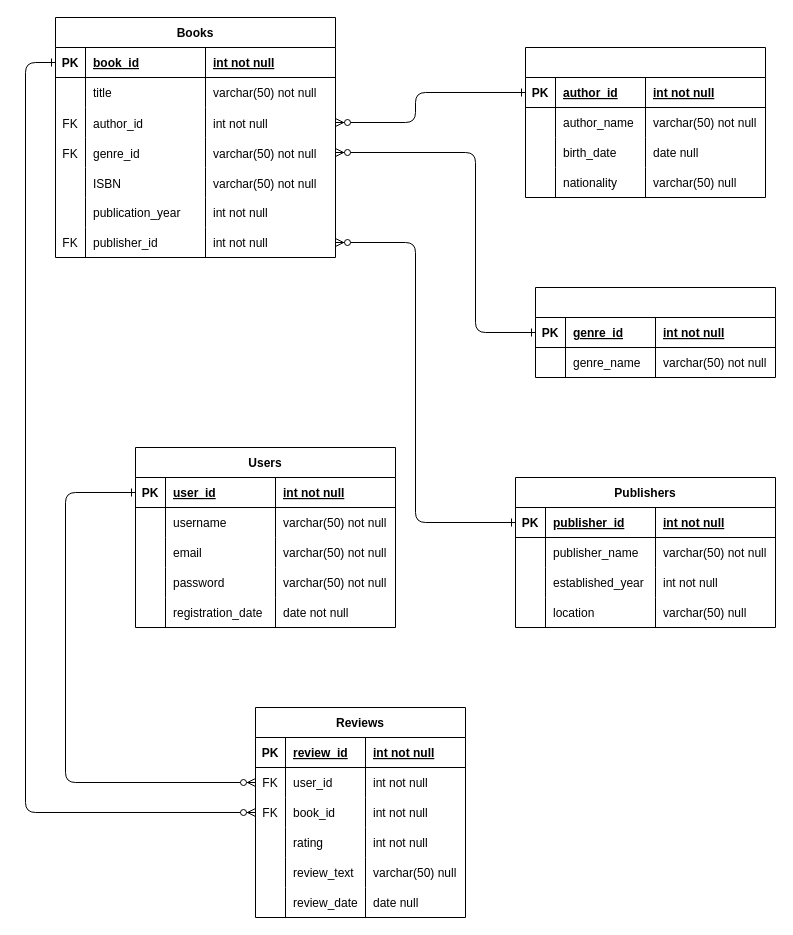
The diagram is 793 pixels wide and 935 high, and some of its shapes have lost their labels. The box of each missing label's shape, as (x1, y1, x2, y2) in pixels:
Authors: (524, 46, 766, 198)
Genres: (534, 286, 776, 378)
